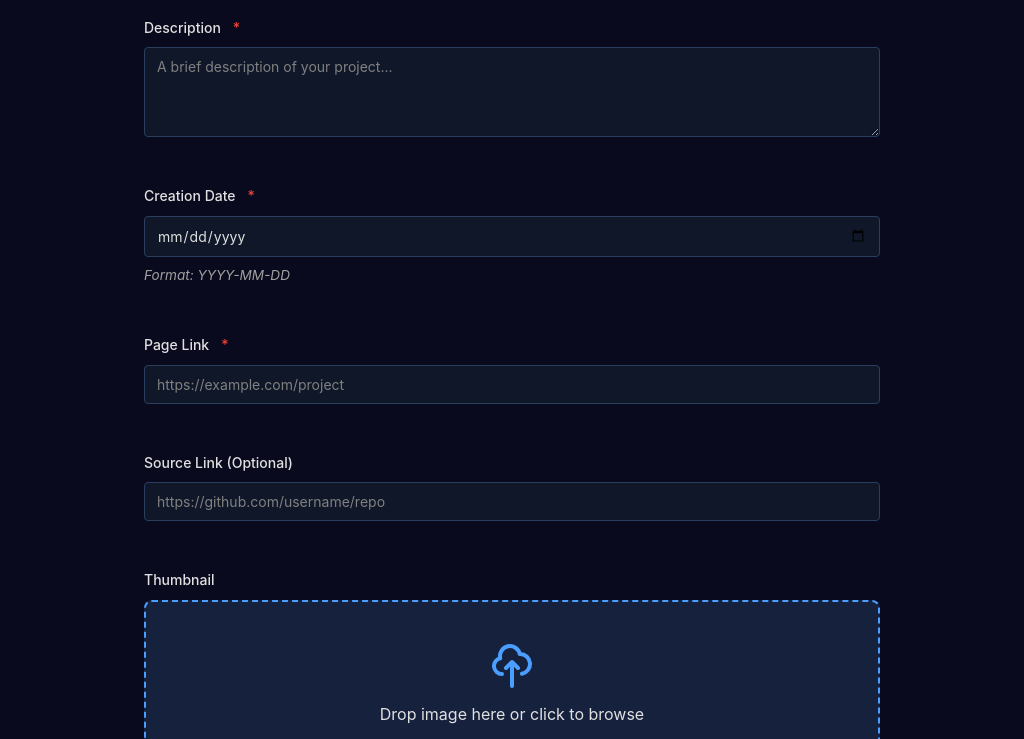
Test: ProjectForm › Validation › should validate URL format for page link
(page scrolled)
Type "not-a-url" into the field labelled "Page Link" at {"x": 512, "y": 384}, box [144,365,880,404]
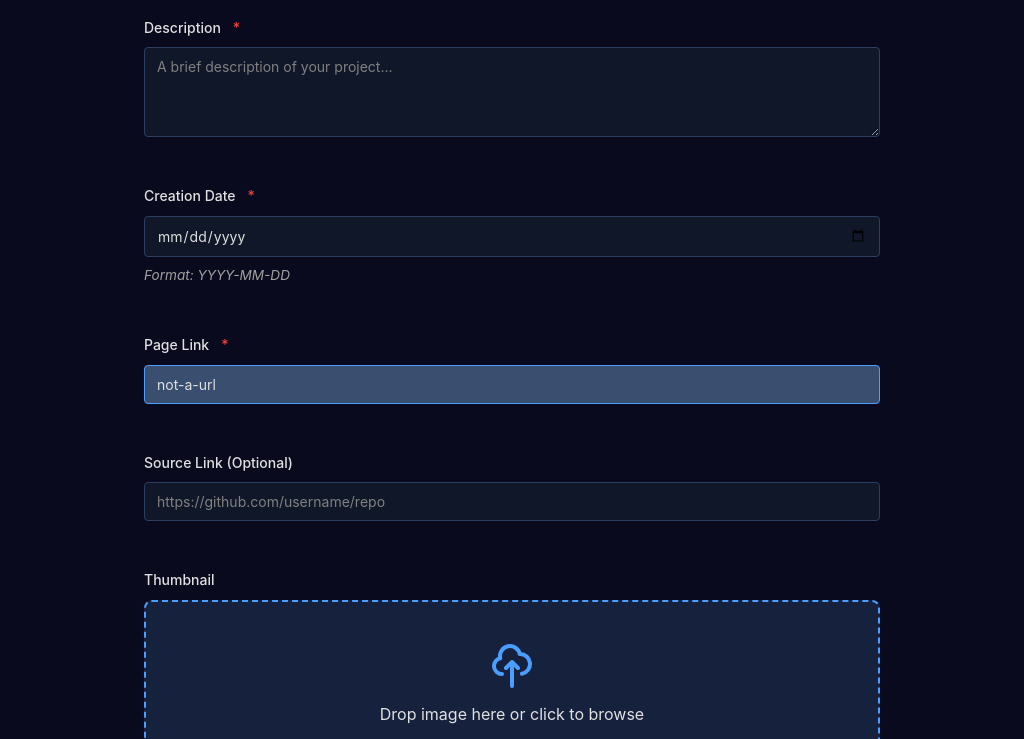
Press Tab
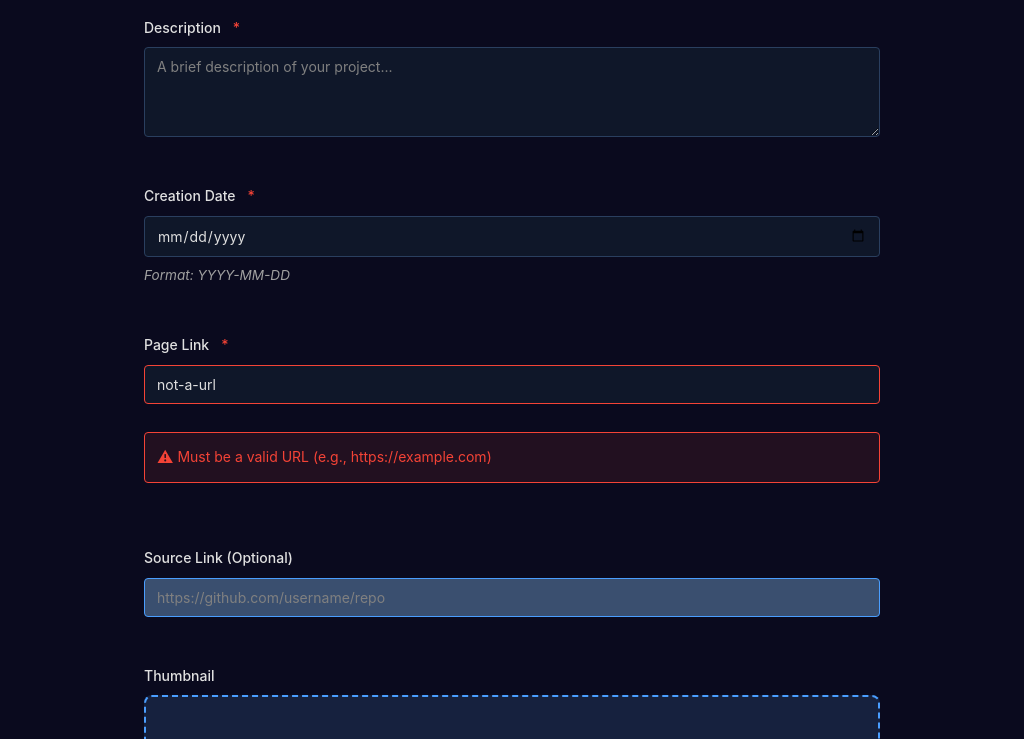
Check: the text "Must be a valid URL (e.g., https://example.com)" is shown, box [144,432,880,483]
